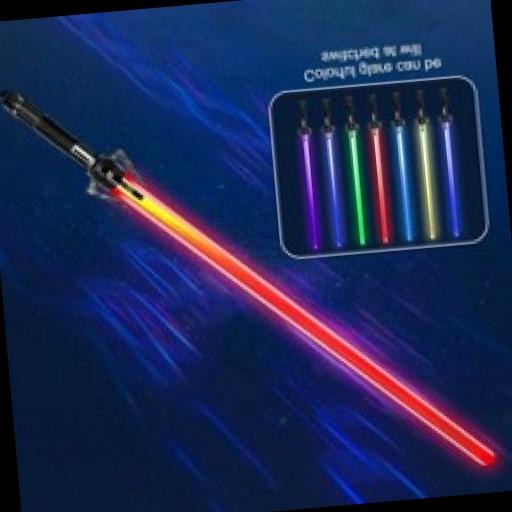sith saber: (0, 55, 495, 506)
